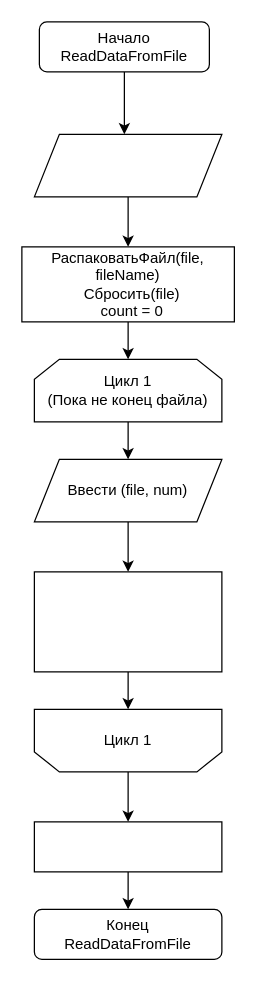
Image size: 256x981. Some labels were removed from this diagram. The centre of each missing label's shape, as x and y in pixels:
"Ввести filename,arr" belongs at (x=127, y=165).
"ЗакрытьФайл(file)" belongs at (x=127, y=846).
"ПрибавитьЕдиницу(count) ЗадатьДлину(arr, count) arr[count - 1] = num" belongs at (x=127, y=621).
